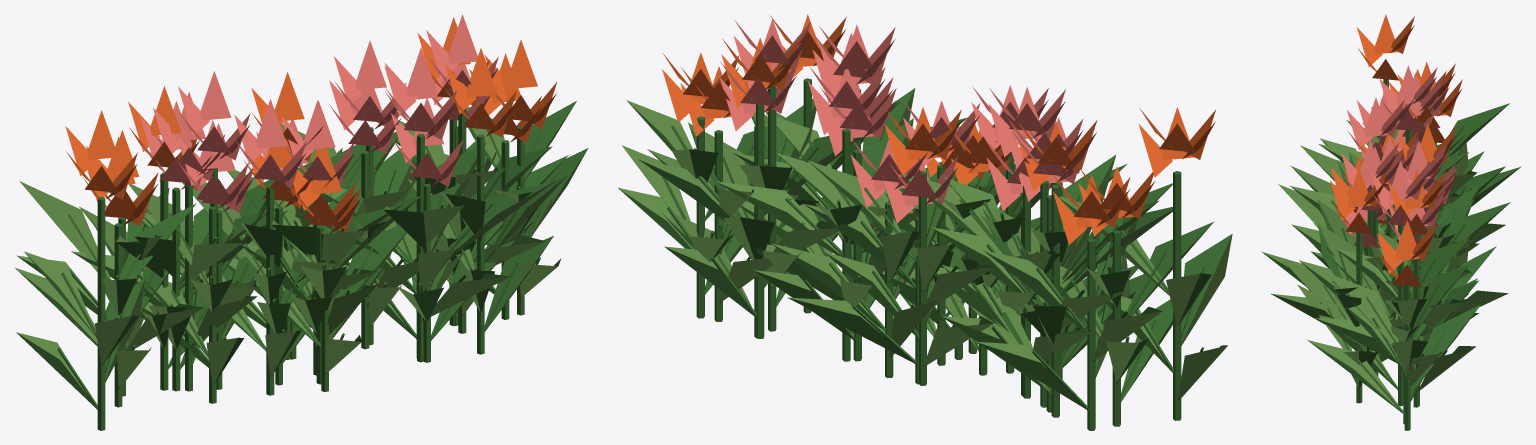
The model's file is canna_border_3m.glb.
3 views of the same model, side by side, from view 1: azimuth 30°, elevation 25°; view 2: azimuth 150°, elevation 25°; view 3: azimuth 270°, elevation 25° (orthographic). The views are drawn at different scales.
Visible parts, largest first — view 1: canna_border_3m; view 2: canna_border_3m; view 3: canna_border_3m.
Boxes of the visible parts, x1,y1,x2,y2 form: canna_border_3m: (15,14,588,430); canna_border_3m: (618,14,1232,430); canna_border_3m: (1261,14,1521,430).
Size of the model in its own units: 3.84 by 1.94 by 1.89.
